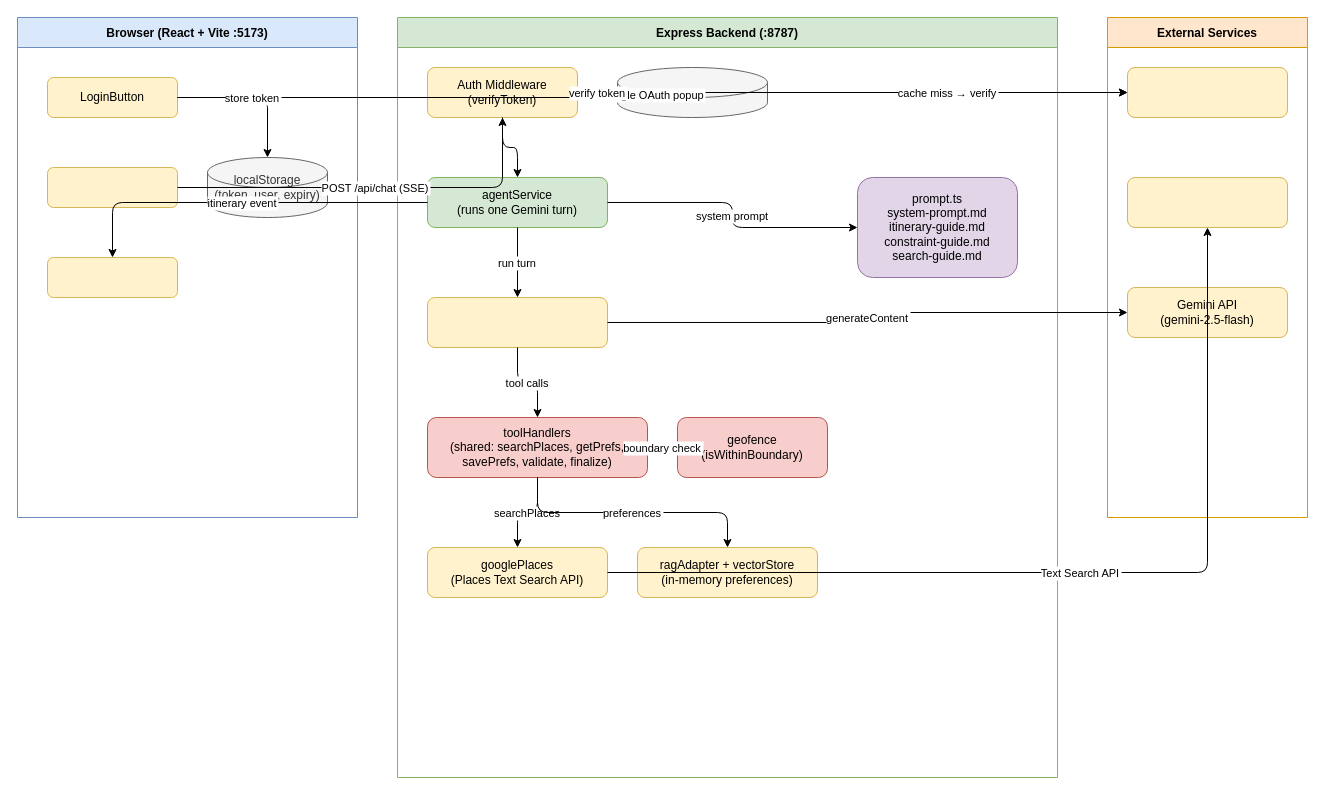
This 1325x795 diagram has some shape labels left out. The shapes that lost their labels are listed below. From the top down, each one's centre as x and y in pixels, then its label:
At point (692, 92): "In-memory token cache (5 min TTL)".
At point (1207, 92): "Google OAuth tokeninfo endpoint".
At point (112, 187): "ChatWindow".
At point (1207, 202): "Google Places API v1 (Text Search)".
At point (112, 277): "ItineraryView".
At point (517, 322): "geminiService (function-calling loop, 12 steps)".
